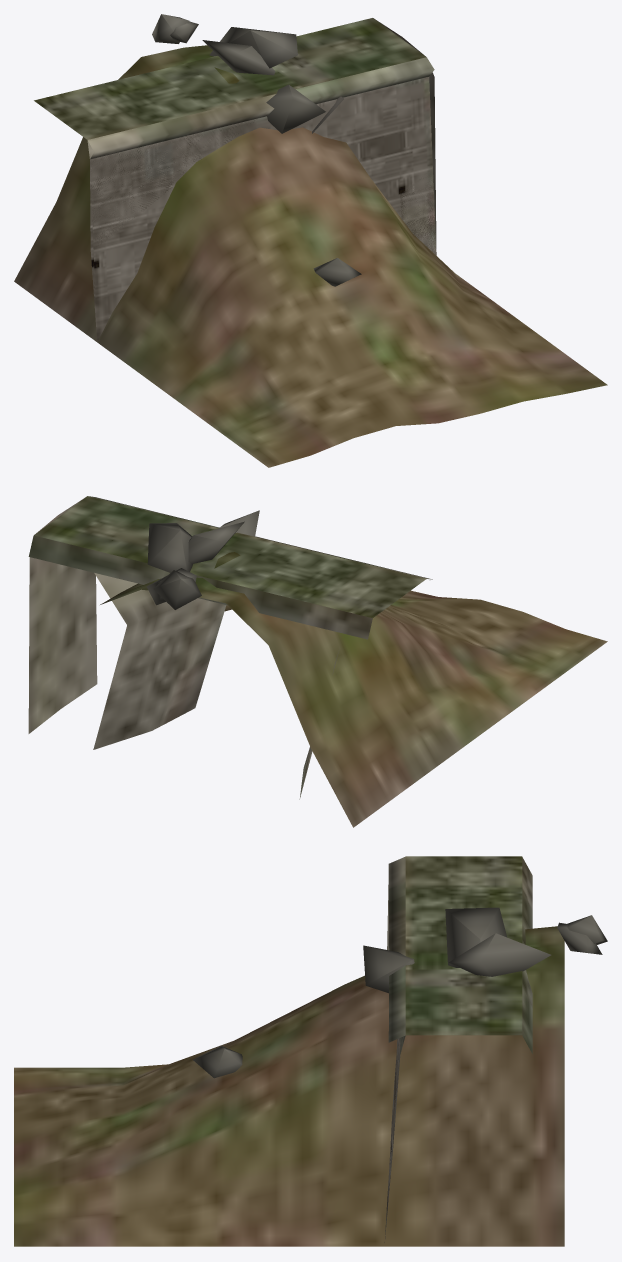
File: starfort_counterscarp_far.glb
The picture shows the model from 3 angles, top to bottom: view 1: azimuth 30°, elevation 25°; view 2: azimuth 150°, elevation 25°; view 3: azimuth 270°, elevation 25°; orthographic projection. The views are drawn at different scales.
Visible parts, largest first — view 1: breached, intact, cracked, endcap_b; view 2: breached, intact, endcap_b; view 3: breached, intact, cracked.
Part boxes in pixels (x1,y1,x2,y2): breached: (14,14,607,467); intact: (34,18,436,341); cracked: (87,57,435,254); endcap_b: (375,19,436,255); breached: (30,496,607,827); intact: (29,496,426,639); endcap_b: (28,498,97,733); breached: (14,856,607,1246); intact: (391,856,532,1151); cracked: (384,856,405,1242).
Size of what is drawn, in the model's own units: 4.03 by 2.59 by 5.61.
Materials: 1 (1 with a texture image).
